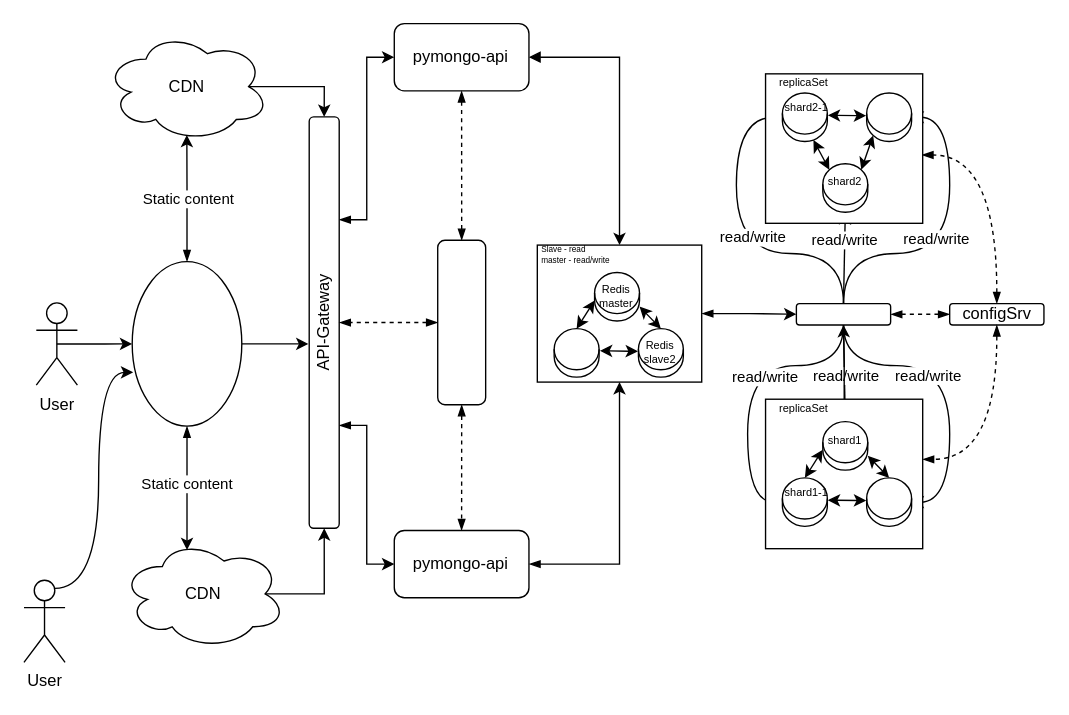
Some shapes in this 1069 by 715 pixel diagram are drawn without their labels. Each missing label, with the centre of its shape:
consul: the point at 461,322
mongos_router: the point at 843,313
Redis slave1: the point at 576,352
shard1-2: the point at 888,501
shard2-2: the point at 888,117
WEB-APP MOBILE-APP ETC: the point at 186,343
